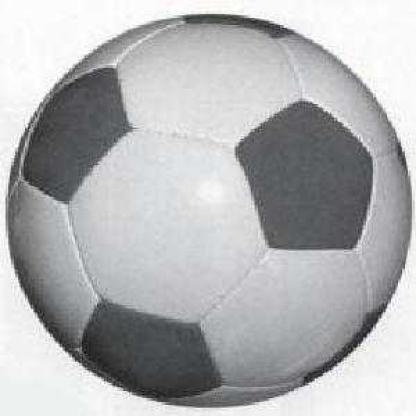ball: (8, 12, 414, 407)
